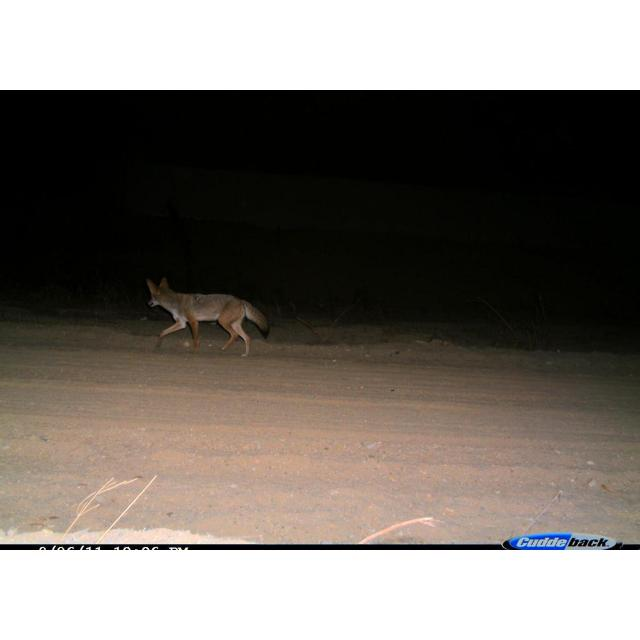animals: (144, 277, 270, 363)
